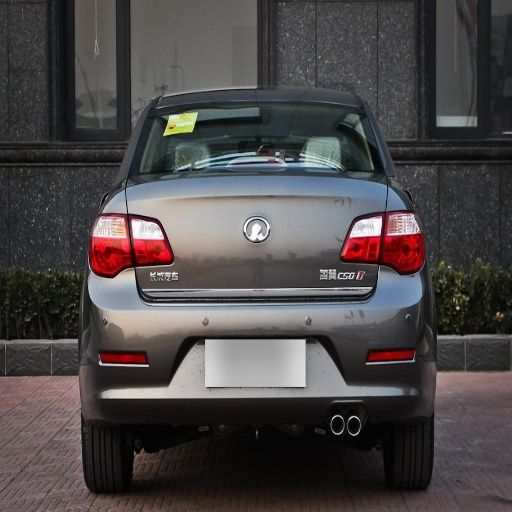back_bumper: (85, 264, 436, 422)
trunk: (129, 175, 386, 303)
